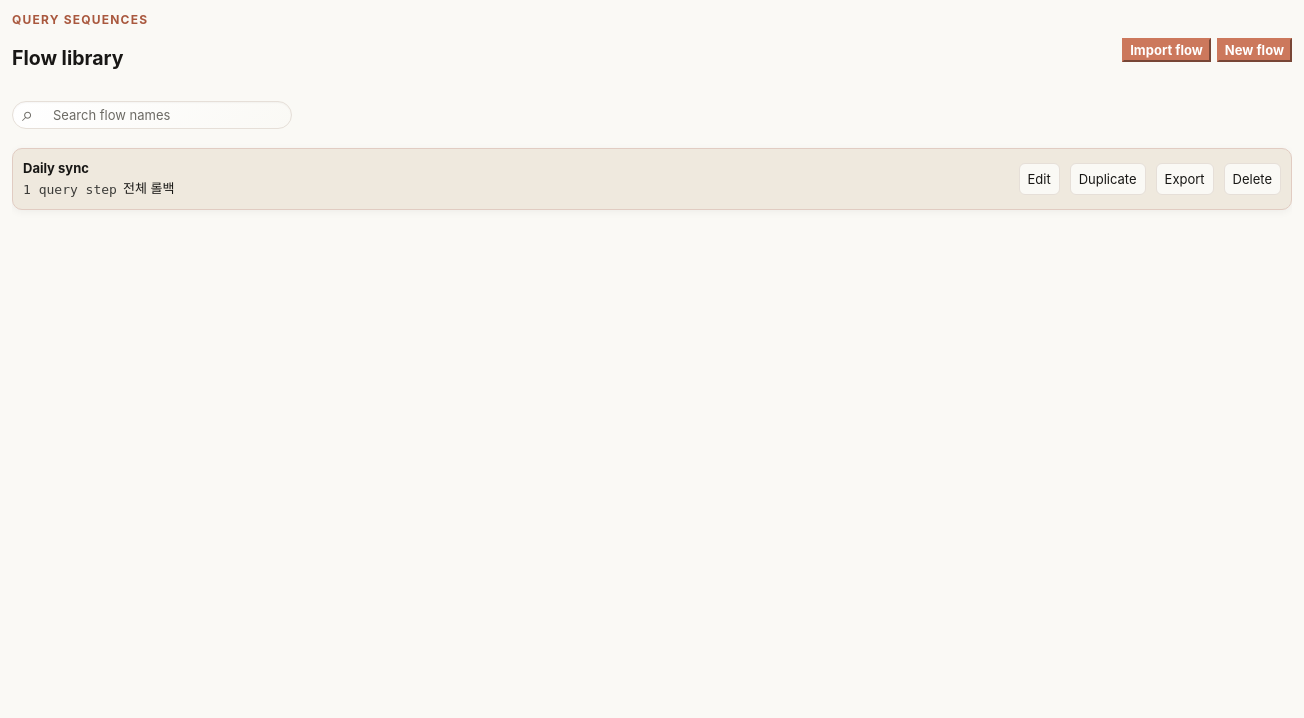
Test: opens the imported flow editor when a referenced connection is unavailable
Expected: the text "Daily sync" is shown, [23,160,89,176]
Click the button "Import flow": [1166, 50] box [1122,38,1211,62]
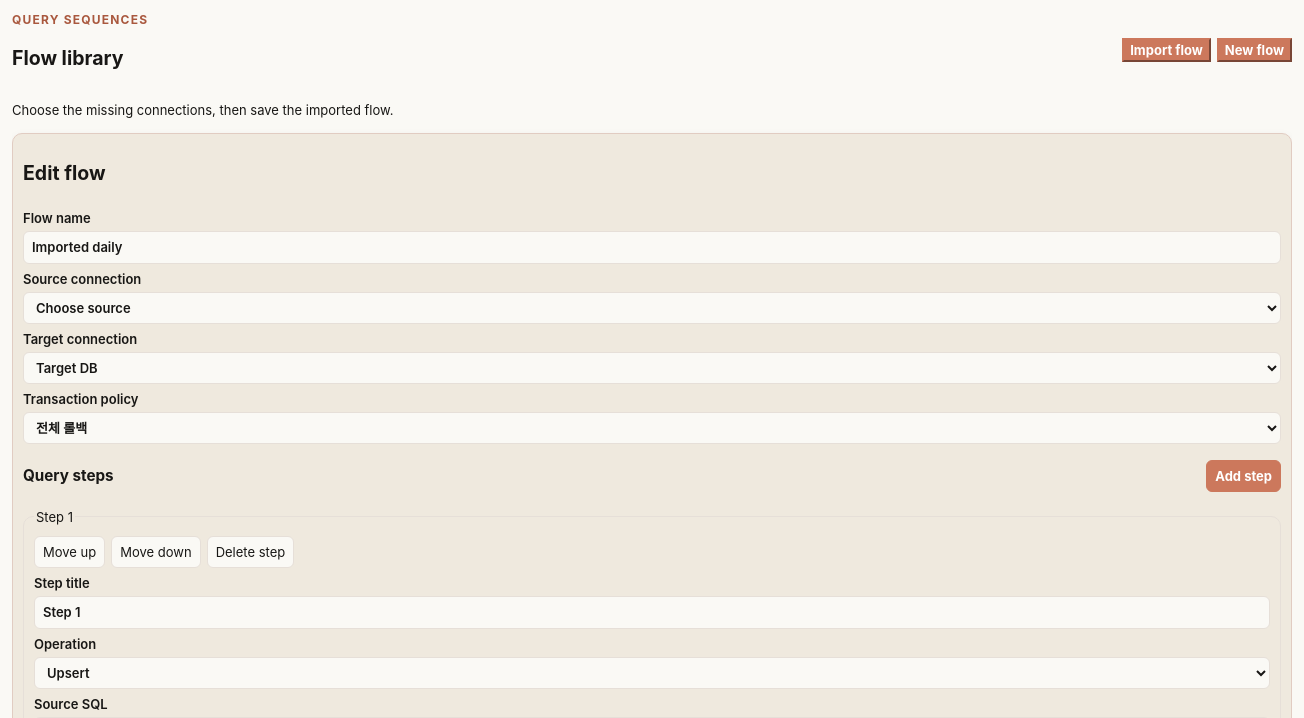
Now the heading "Edit flow" is shown, box [23,161,106,185]
Now the field labelled "Flow name" holds "Imported daily", box [23,232,1281,264]
Now the dropdown labelled "Source connection" shows "Choose source", box [23,292,1281,324]
